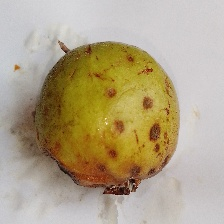guava: (32, 50, 200, 202)
